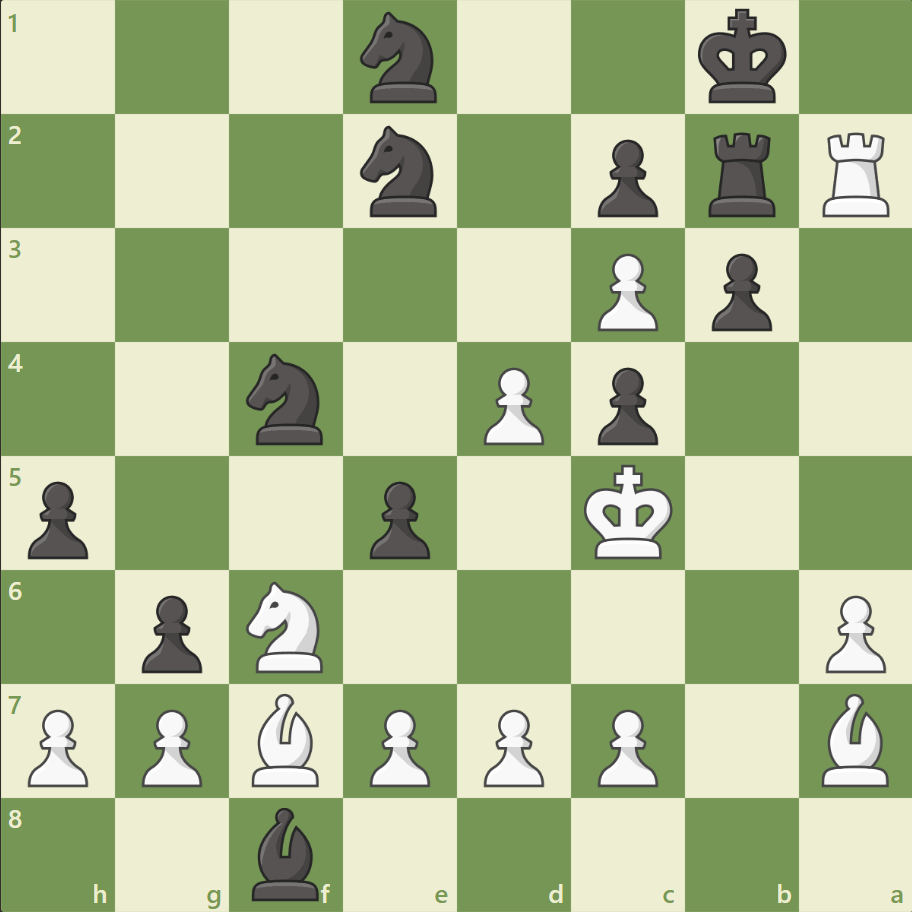B: (812, 687, 896, 790), (244, 687, 328, 790)
K: (579, 458, 679, 566)
N: (238, 575, 335, 677)
P: (474, 700, 549, 791), (133, 700, 208, 791), (20, 700, 95, 791), (474, 359, 549, 450), (588, 700, 662, 791), (361, 700, 435, 791), (815, 586, 889, 677), (588, 246, 662, 337)
R: (814, 125, 897, 222)
b: (244, 801, 328, 904)
k: (692, 4, 792, 112)
n: (351, 7, 449, 110), (351, 121, 449, 223), (238, 348, 335, 450)
p: (133, 586, 208, 677), (20, 473, 95, 564), (701, 246, 776, 337), (361, 473, 435, 564), (588, 359, 662, 450), (588, 132, 662, 223)
r: (700, 125, 783, 222)
